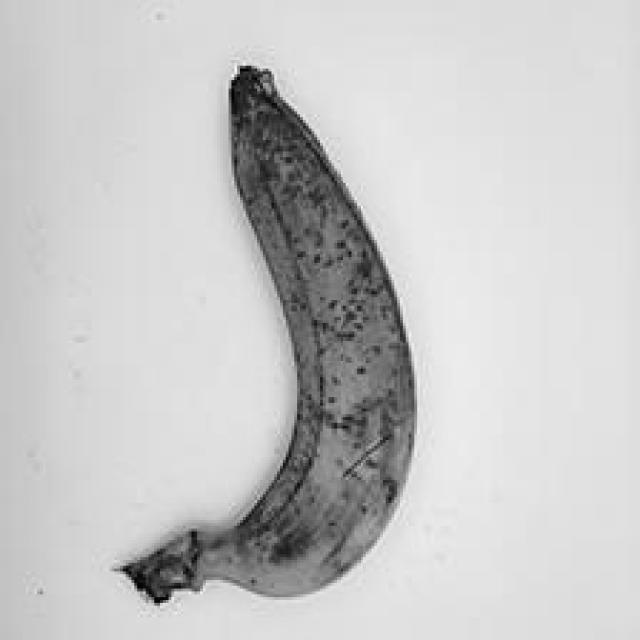Overripe: (73, 43, 440, 617)
